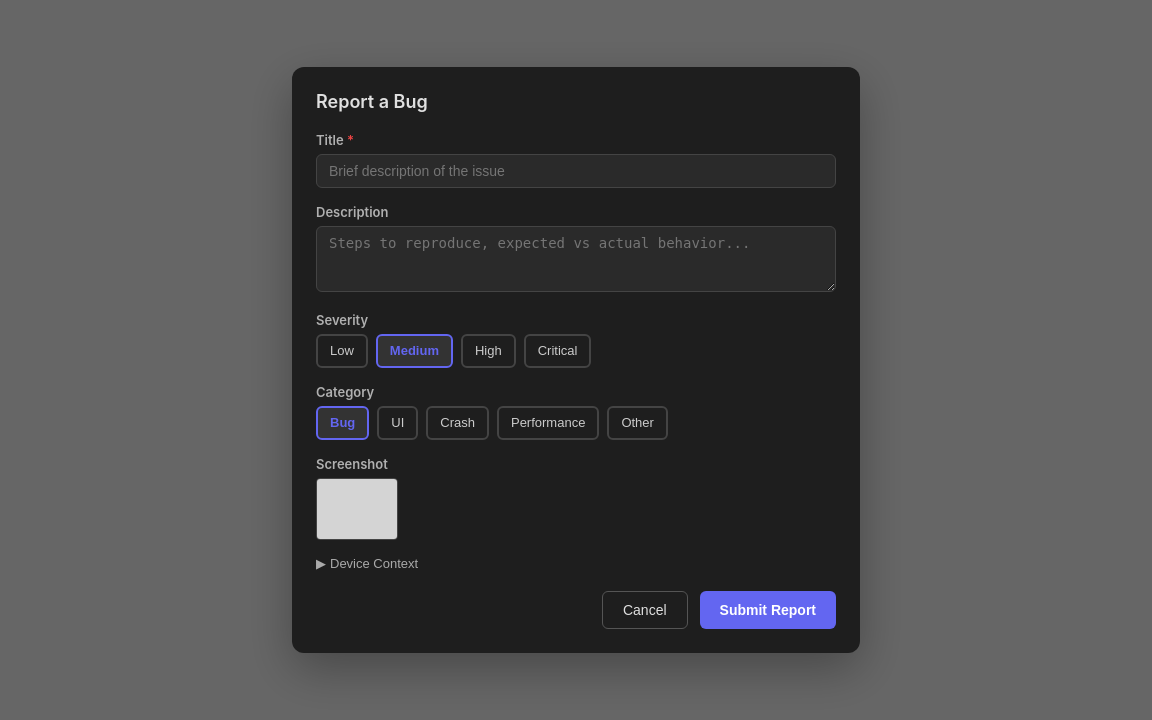
Test: ReportForm › shows title error on submit click when title is empty
Click the button with test id "report-form-submit". click: click(768, 610)
box: [700,591,836,629]
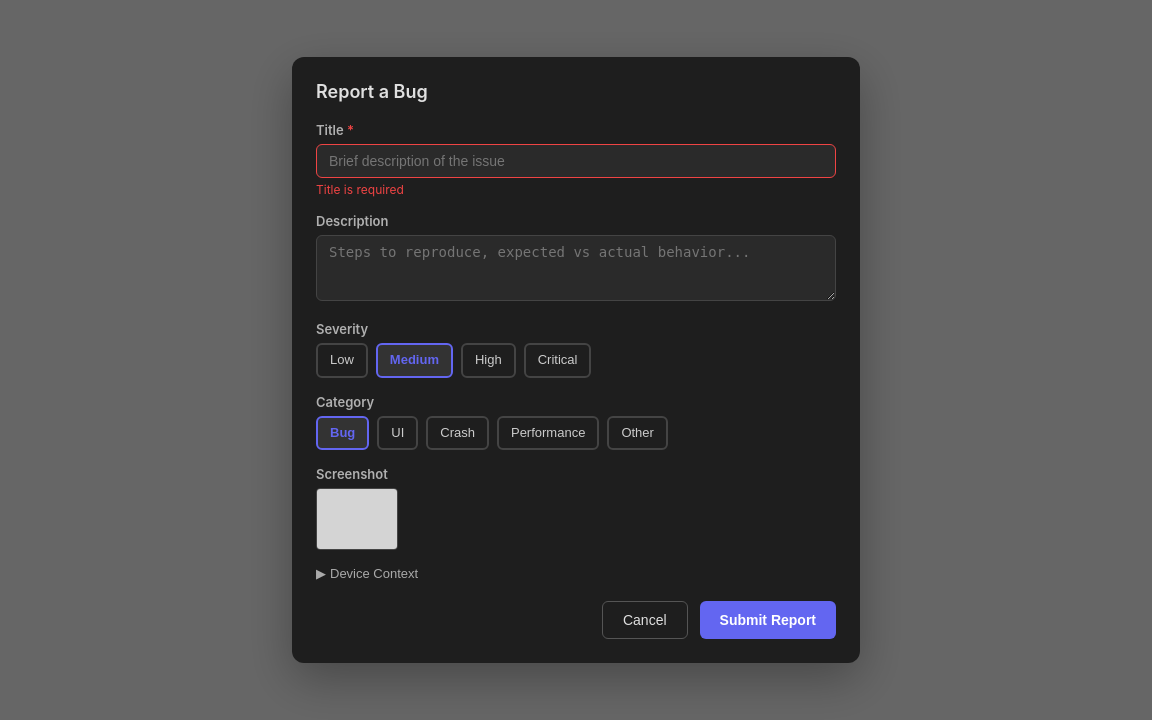
Check: the message "Title is required" is shown, box [316,182,404,197]
